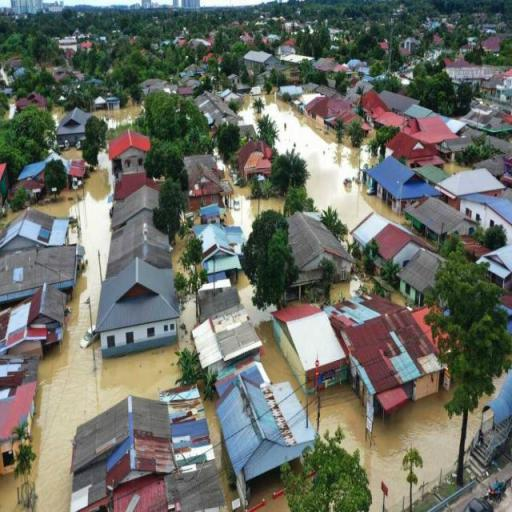flood: (31, 151, 182, 512), (257, 96, 405, 230), (321, 386, 462, 512), (251, 315, 306, 410), (195, 401, 238, 512), (464, 373, 506, 453), (227, 187, 285, 238), (236, 271, 276, 326), (247, 468, 290, 512), (93, 104, 143, 128), (330, 276, 373, 302), (178, 297, 197, 350), (0, 473, 25, 512), (239, 93, 259, 136), (172, 236, 189, 278), (443, 162, 472, 174), (308, 394, 317, 430), (51, 106, 65, 126), (5, 96, 16, 119), (391, 291, 406, 306), (289, 458, 302, 472), (483, 409, 493, 423)
house: (72, 396, 216, 512), (331, 292, 455, 425), (203, 381, 318, 486), (272, 302, 351, 396), (364, 213, 446, 302), (100, 258, 174, 355), (186, 311, 264, 380), (287, 212, 351, 294), (0, 285, 66, 357), (0, 242, 80, 300), (392, 108, 462, 166), (368, 156, 440, 211), (196, 220, 244, 298), (0, 372, 33, 476), (0, 208, 76, 250), (460, 193, 512, 241), (107, 130, 152, 184), (234, 138, 272, 192), (440, 168, 506, 197), (478, 240, 512, 296), (109, 186, 159, 224), (185, 156, 224, 203), (444, 60, 502, 90), (17, 158, 53, 204), (324, 98, 357, 135), (199, 90, 237, 121), (60, 150, 88, 188), (294, 90, 328, 120), (54, 108, 88, 138), (441, 137, 476, 163), (381, 90, 423, 111), (362, 86, 388, 118), (278, 82, 302, 108), (245, 51, 279, 69), (93, 94, 122, 115), (406, 104, 432, 118)
